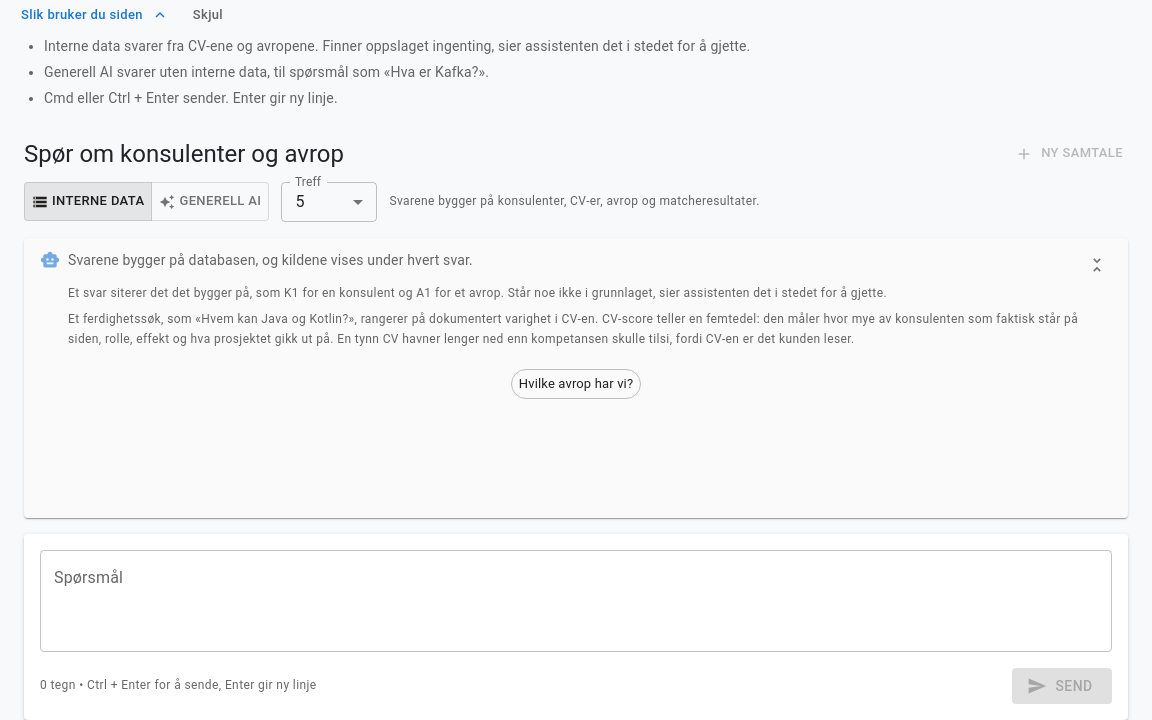
Scenario: ChatAssistantPage › renders a comparison as a table from the typed field
The image size is (1152, 720).
(page scrolled)
Replace the text in the text box labelled "Spørsmål" with "Hvem passer best av Joachim og Thomas?" at (576, 601), box [54,566,1098,635]
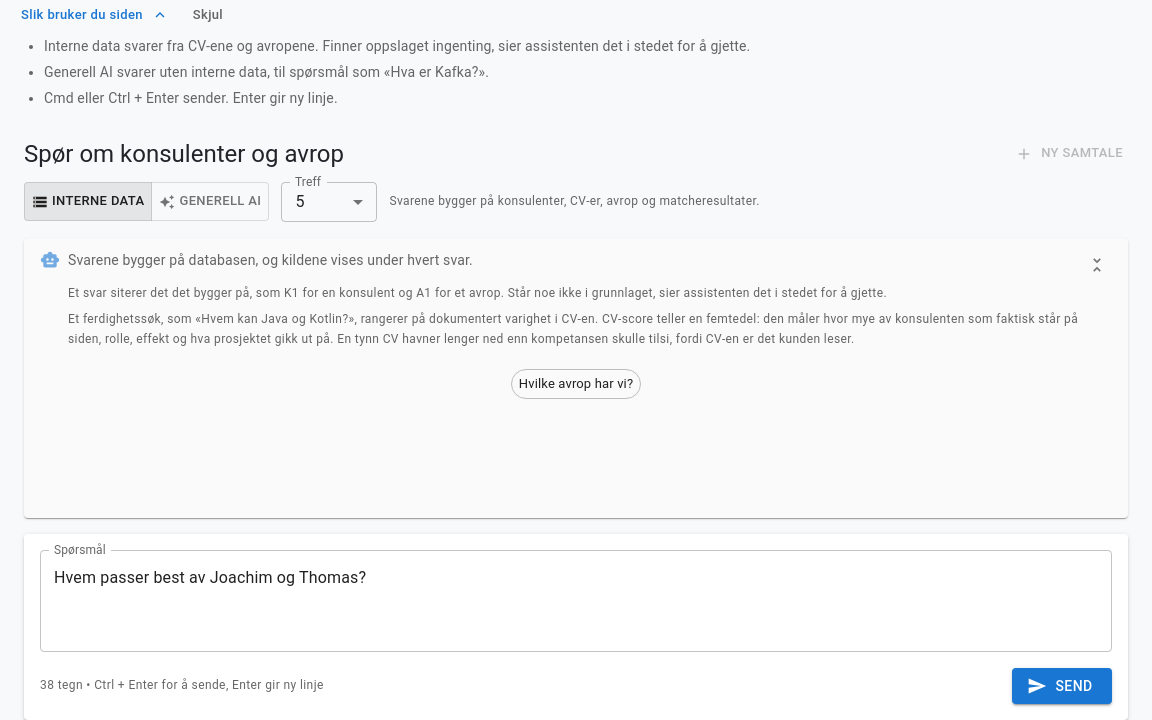
Click the button "Send".
click(1062, 686)  # box [1012,668,1112,704]
(page scrolled)
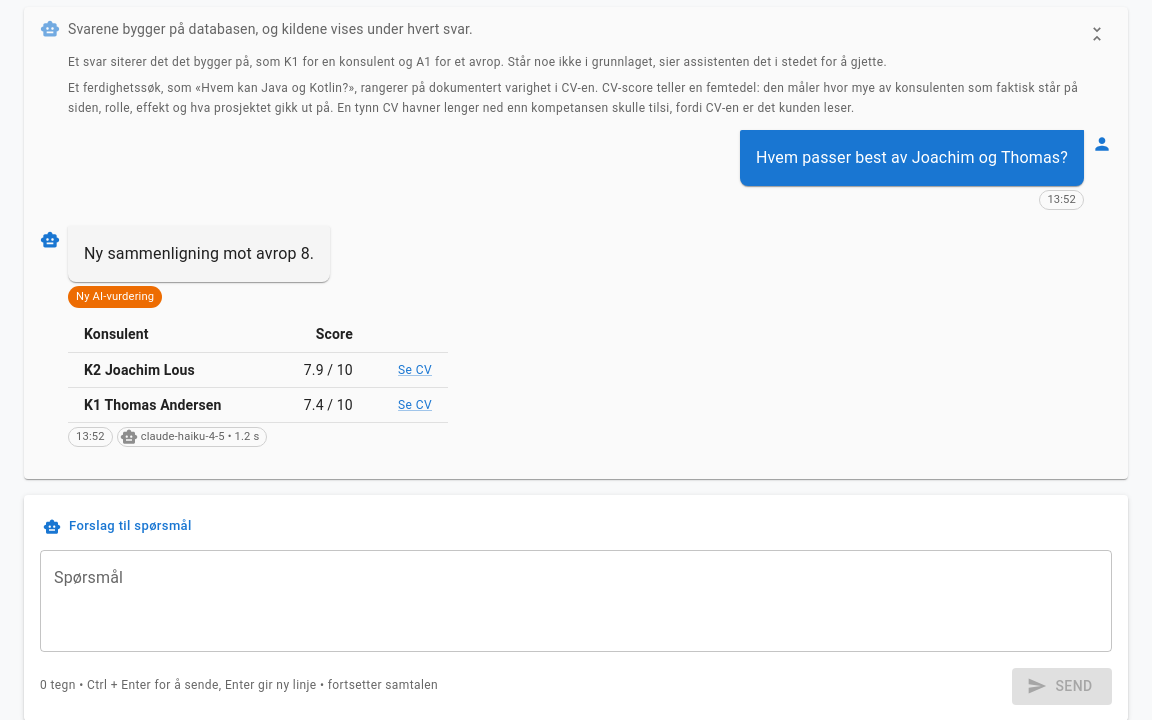
Now the text "K2 Joachim Lous" is shown, box [84,362,195,378]
Now the text "7.9 / 10" is shown, box [304,362,353,378]
Now the text "7.4 / 10" is shown, box [304,397,353,413]
